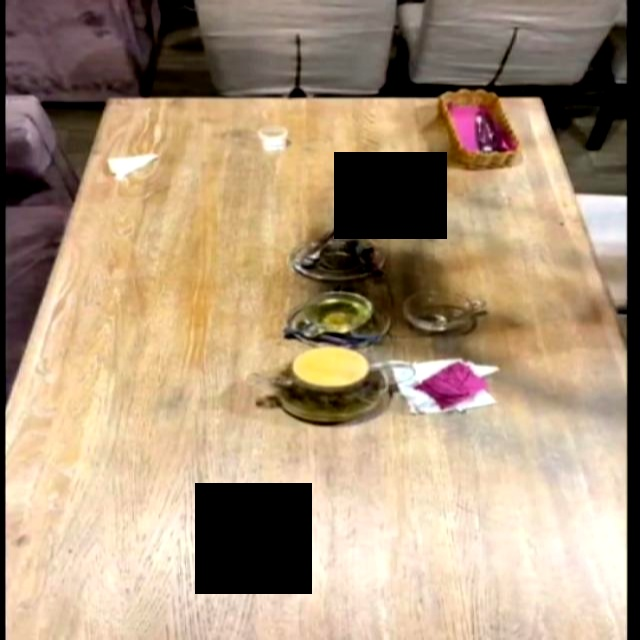tea: (284, 353, 400, 417)
